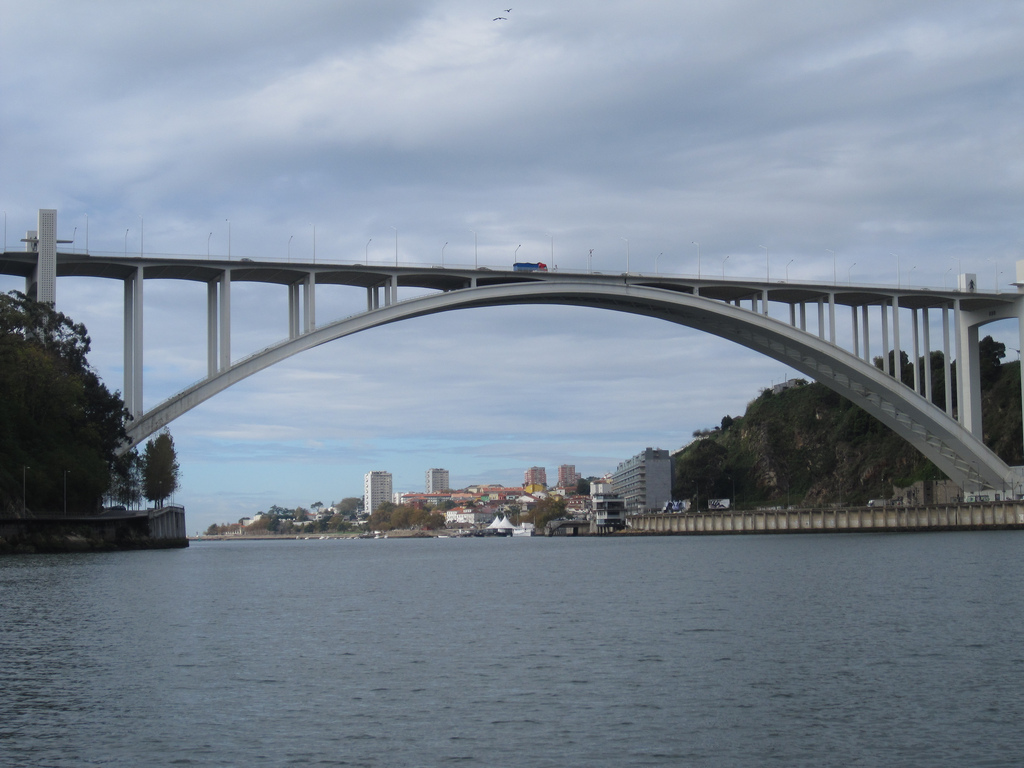arrabida: (0, 207, 1023, 501)
